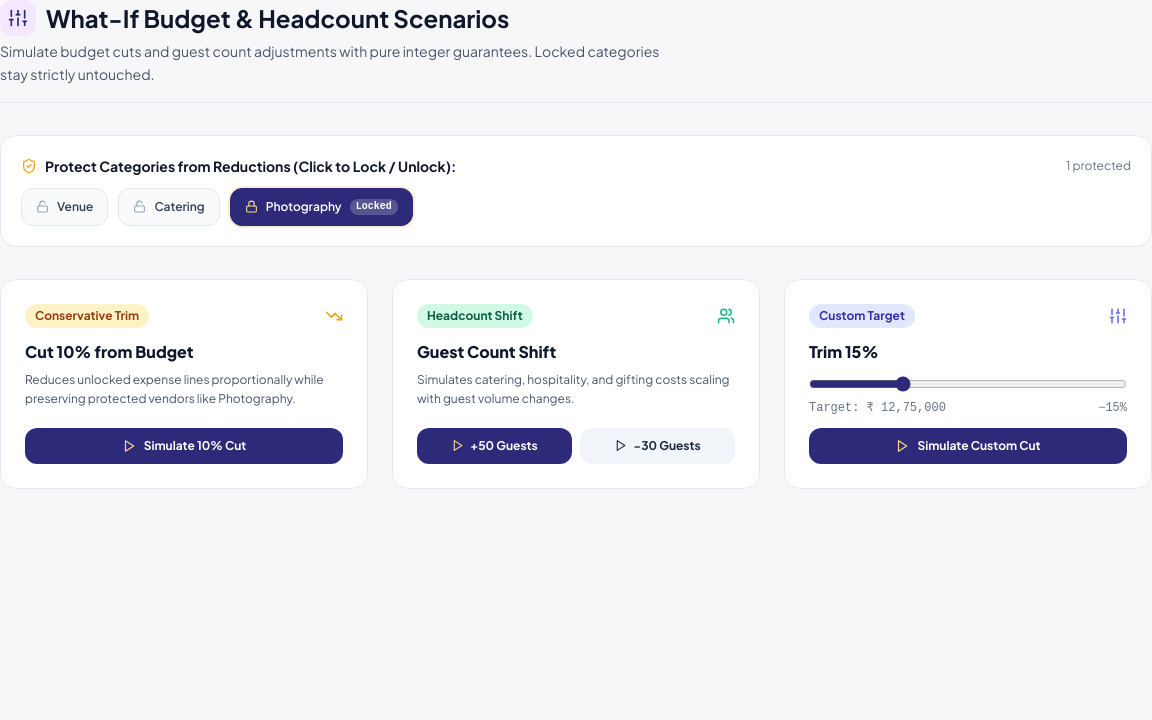
it: TabScenarios UI Component › runs 10% cut simulation and displays comparison table
Click the button "Simulate 10% Cut" at point(184, 446), box [25,428,343,464]
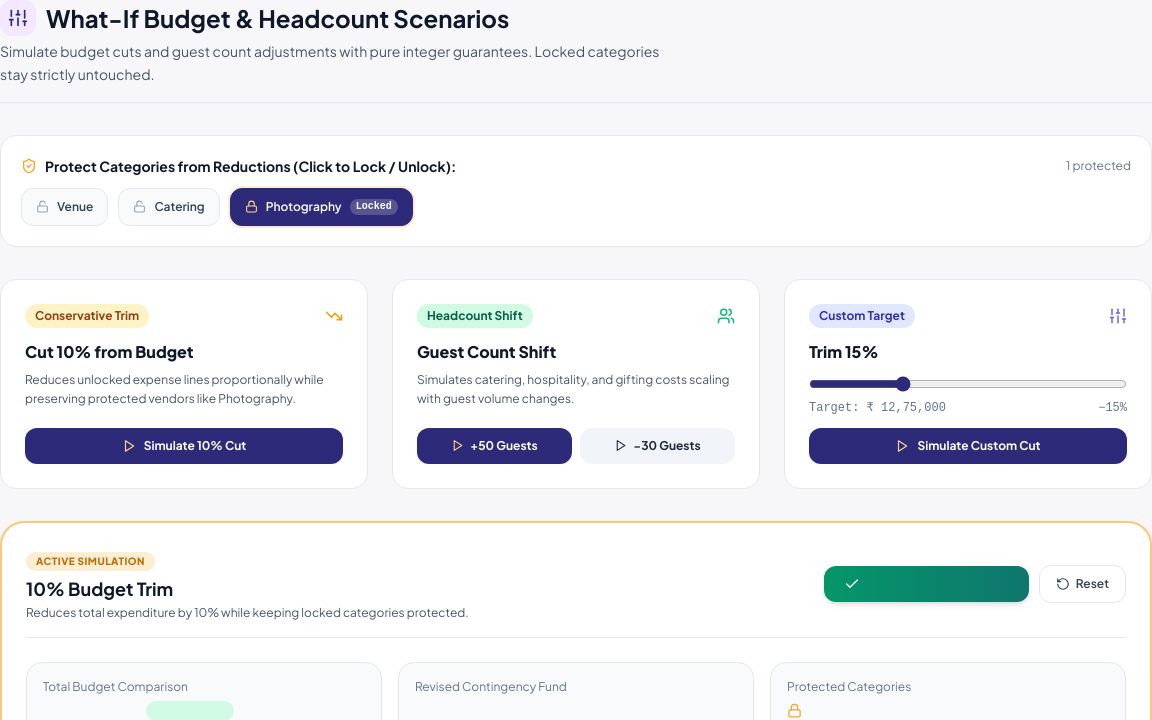
Expected: the text "Active Simulation" is shown, [26,552,155,570]
Expected: the heading "10% Budget Trim" is shown, [26,576,173,600]
Expected: the button "Apply Simulation to Plan" is shown
// Click apply
Click the button "Apply Simulation to Plan" at point(927, 584), box [824,566,1029,602]
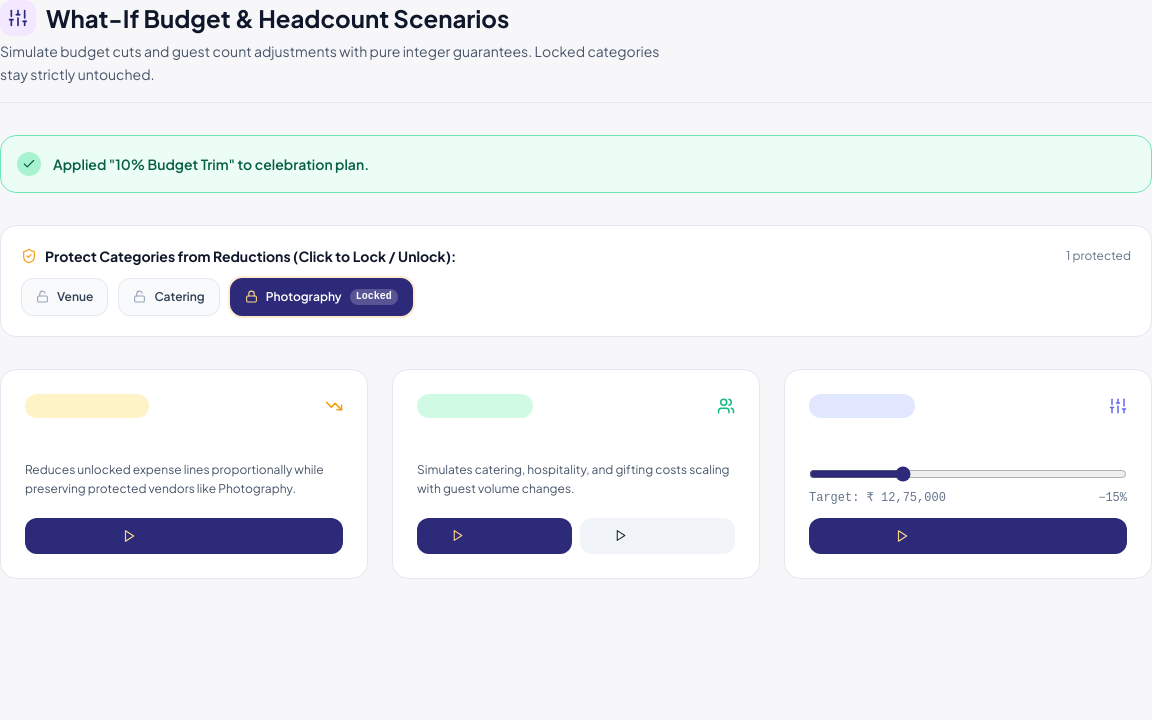
Expected: the text "Applied \"10% Budget Trim\" to celebration plan." is shown, [53,154,369,174]
